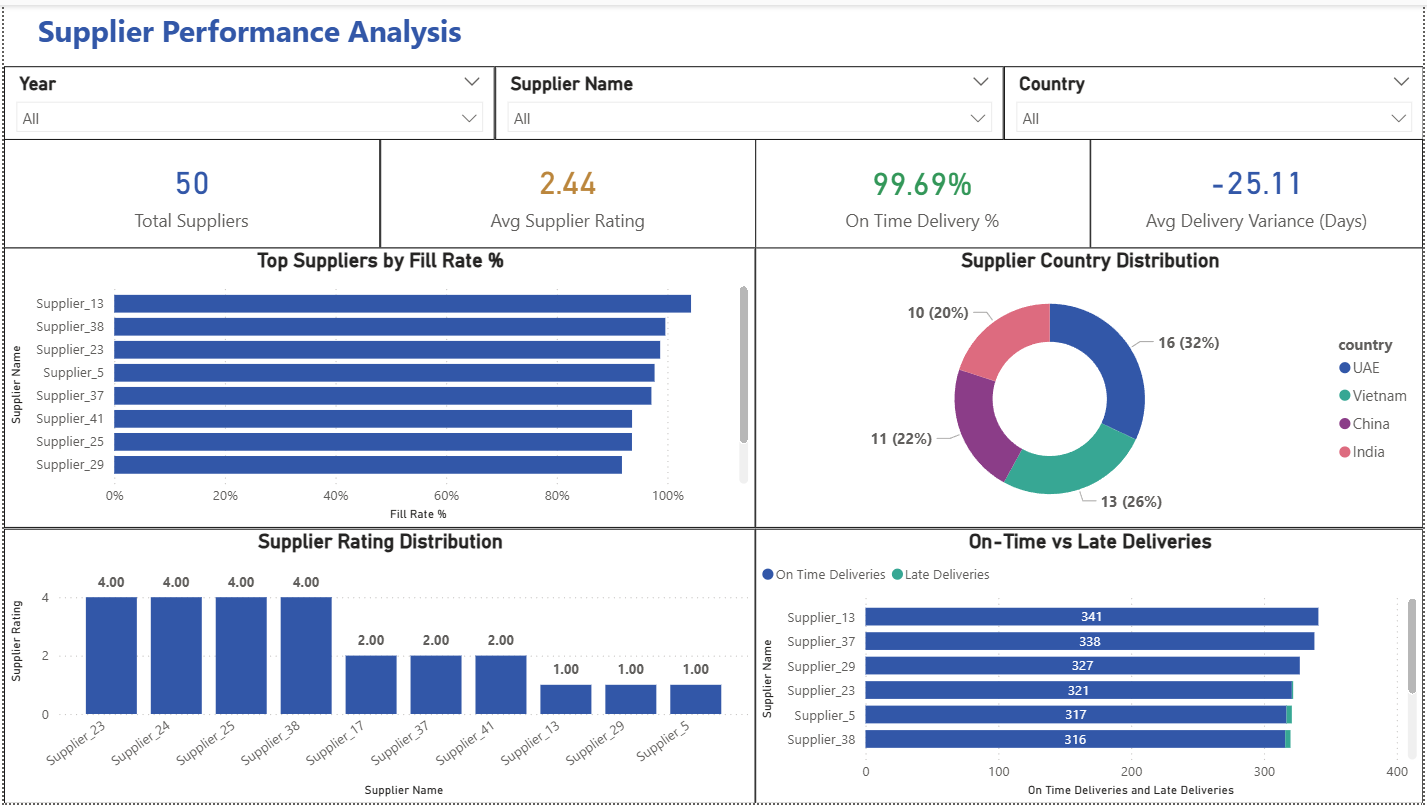

The dashboard page shown, as its layout file describes it:
{"tool":"powerbi","page":{"name":"Supplier Performance Analysis","canvas":[1280,720],"ordinal":1},"visuals":[{"type":"card","fields":{"Values":["measures .Supplier Count"]},"box":[0,119.4,338.9,100.2],"z":0},{"type":"card","fields":{"Values":["measures .Avg Supplier Rating"]},"box":[338.9,119.4,338.9,100.2],"z":1000},{"type":"card","fields":{"Values":["measures .On Time Delivery %"]},"box":[677.4,121.1,302,99],"z":2000},{"type":"card","fields":{"Values":["measures .Avg Delivery Variance (Days)"]},"box":[979.8,119.4,300.5,100.2],"z":3000},{"type":"clusteredBarChart","title":"Top Suppliers by Fill Rate %","fields":{"Category":["Dim Suppliers.supplier_name"],"Y":["measures .Fill Rate %"]},"box":[0,219.8,677.9,252.3],"z":4000},{"type":"clusteredColumnChart","title":"Supplier Rating Distribution","fields":{"Category":["Dim Suppliers.supplier_name"],"Y":["Avg(Dim Suppliers.supplier_rating)"]},"box":[0,472,677.4,248.2],"z":5000},{"type":"barChart","title":"On-Time vs Late Deliveries","fields":{"Category":["Dim Suppliers.supplier_name"],"Y":["measures .On Time Deliveries","measures .Late Deliveries"]},"box":[677.9,472.1,602.3,247.7],"z":6000},{"type":"donutChart","title":"Supplier Country Distribution","fields":{"Category":["Dim Suppliers.country"],"Y":["measures .Supplier Count"]},"box":[677.9,219.8,602.3,252.3],"z":7000},{"type":"slicer","fields":{"Values":["Dim Date.year_number"]},"box":[0,55,442.7,66],"z":8000},{"type":"slicer","fields":{"Values":["Dim Suppliers.supplier_name"]},"box":[442.7,55,458.6,66],"z":9000},{"type":"slicer","fields":{"Values":["Dim Suppliers.country"]},"box":[901.2,55,379.1,66],"z":10000},{"type":"textbox","box":[0,0,442.7,55],"z":11000}]}

Visuals, with their boxes in screenshot pixels (x1, y1, x2, y2), scaled from the page's 1280x720 canvas onto the 1427x806 screenshot:
card - measures .Supplier Count: x1=0 y1=134 x2=378 y2=246
card - measures .Avg Supplier Rating: x1=378 y1=134 x2=756 y2=246
card - measures .On Time Delivery %: x1=755 y1=136 x2=1092 y2=246
card - measures .Avg Delivery Variance (Days): x1=1092 y1=134 x2=1426 y2=246
"Top Suppliers by Fill Rate %" clusteredBarChart: x1=0 y1=246 x2=756 y2=528
"Supplier Rating Distribution" clusteredColumnChart: x1=0 y1=528 x2=755 y2=805
"On-Time vs Late Deliveries" barChart: x1=756 y1=528 x2=1426 y2=805
"Supplier Country Distribution" donutChart: x1=756 y1=246 x2=1426 y2=528
slicer - Dim Date.year_number: x1=0 y1=62 x2=494 y2=135
slicer - Dim Suppliers.supplier_name: x1=494 y1=62 x2=1005 y2=135
slicer - Dim Suppliers.country: x1=1005 y1=62 x2=1426 y2=135
textbox: x1=0 y1=0 x2=494 y2=62
